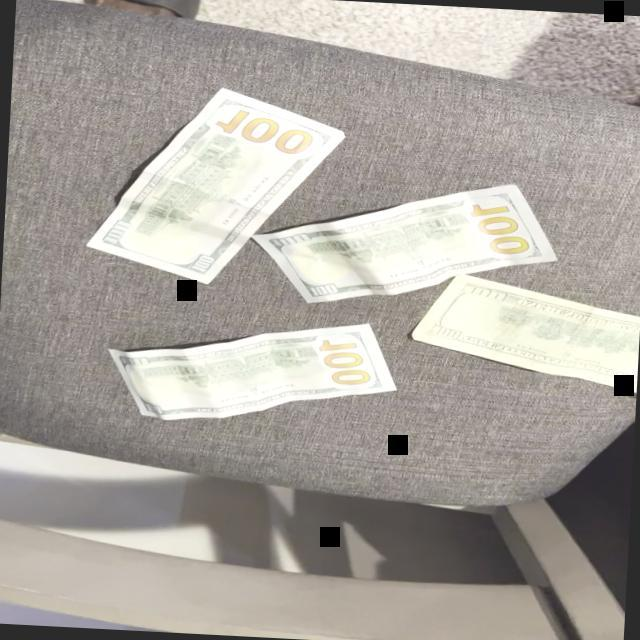hundred: (84, 87, 346, 285), (253, 184, 560, 304), (109, 323, 398, 420), (411, 273, 640, 393)
